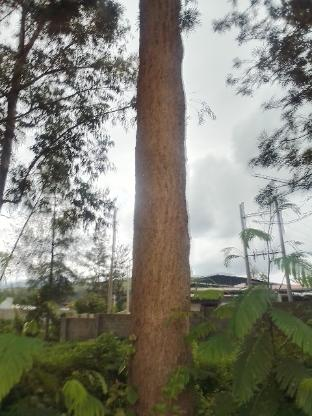tree: (124, 0, 206, 413)
